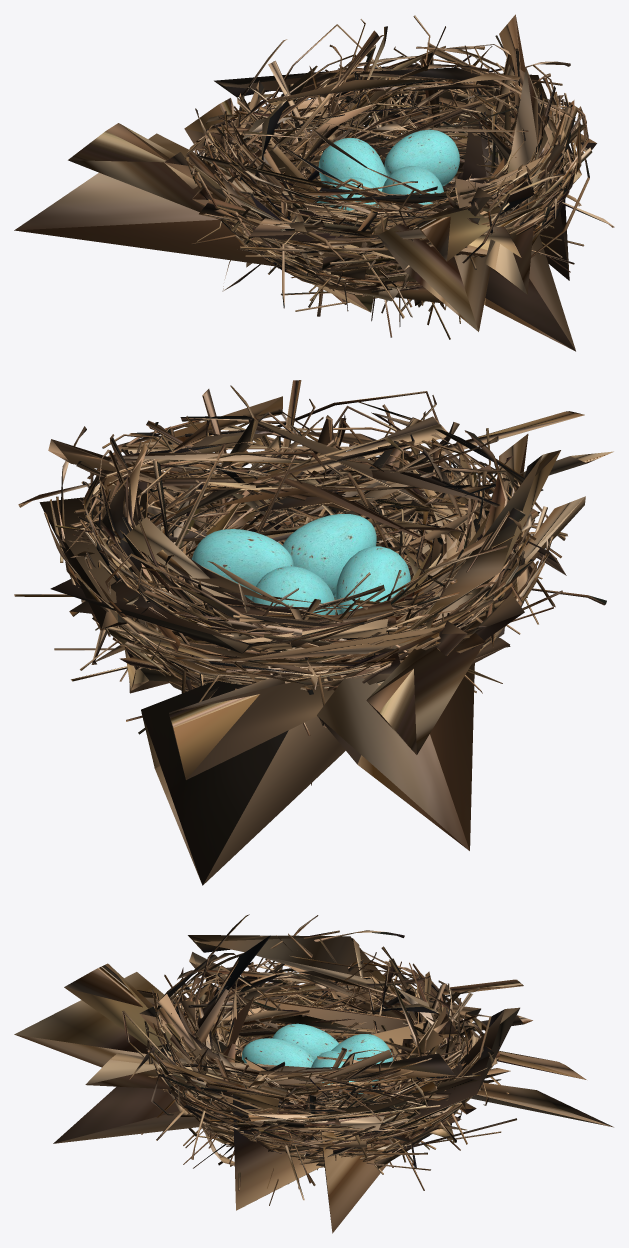
The model's file is nest.glb.
3 views of the same model, one above another, from view 1: azimuth 30°, elevation 25°; view 2: azimuth 150°, elevation 25°; view 3: azimuth 270°, elevation 25° (orthographic). The views are drawn at different scales.
Parts seen in each view (by area): view 1: nest_body; view 2: nest_body; view 3: nest_body.
Part boxes in pixels (left/top/right/bottom): nest_body: left=14, top=14, right=614, bottom=351; nest_body: left=14, top=380, right=613, bottom=885; nest_body: left=14, top=914, right=613, bottom=1233.
Bounding box in the file's own units: 0.2089 × 0.1074 × 0.27.
Materials: 2 (2 with a texture image).
